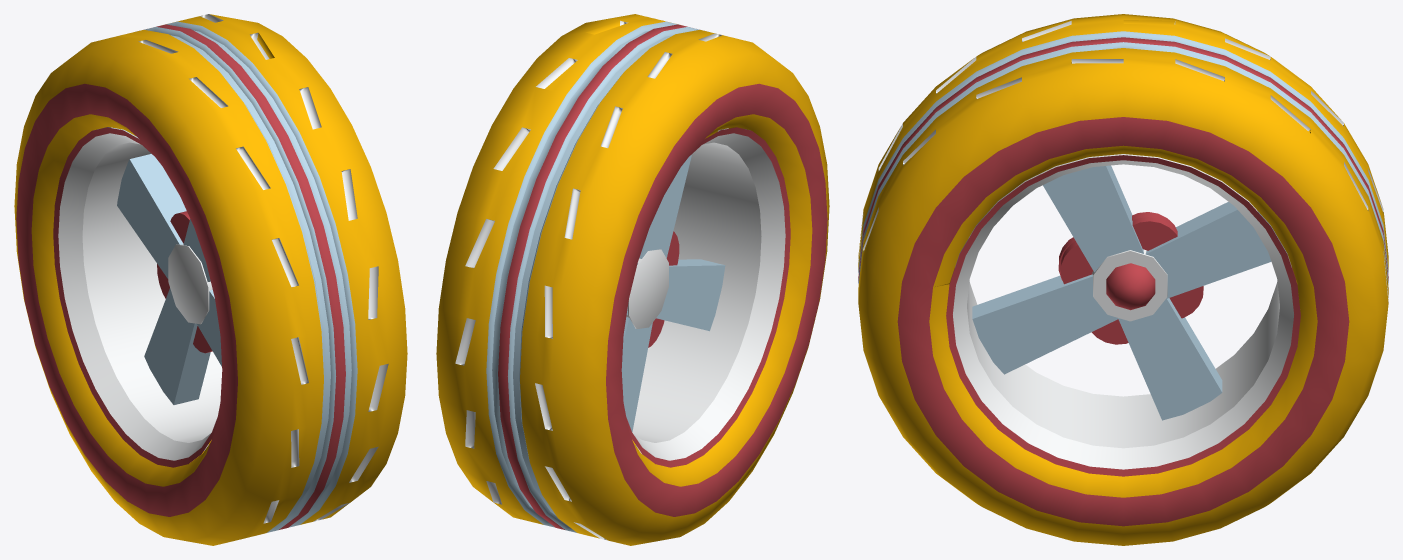
Rendered from colorwheel4.fbx.
3 views of the same model, side by side, from view 1: azimuth 30°, elevation 25°; view 2: azimuth 150°, elevation 25°; view 3: azimuth 270°, elevation 25° (orthographic).
Visible parts, largest first — view 1: polySurface45; view 2: polySurface45; view 3: polySurface45.
Part boxes in pixels (bbox=[...]): polySurface45: bbox=[14, 14, 407, 545]; polySurface45: bbox=[436, 14, 829, 545]; polySurface45: bbox=[858, 14, 1388, 545].
Size of the model in its own units: 0.4593 by 1.23 by 1.23.
1 material, 1 textured.
